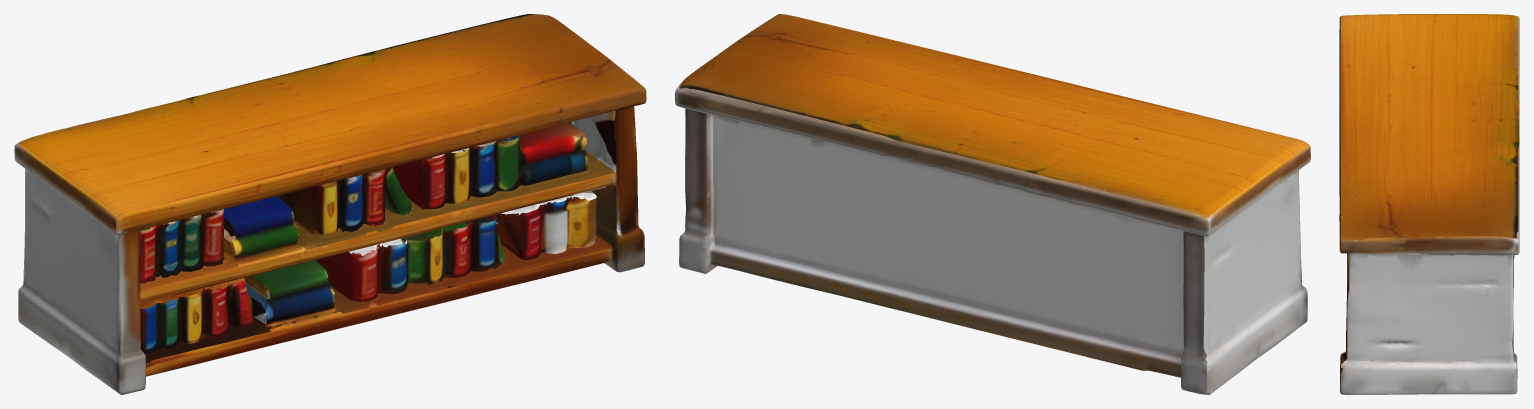
File: Furniture_bookshelf.glb
3 views of the same model, side by side, from view 1: azimuth 30°, elevation 25°; view 2: azimuth 150°, elevation 25°; view 3: azimuth 270°, elevation 25° (orthographic). The views are drawn at different scales.
Parts seen in each view (by area): view 1: tmpa6cf1pal.ply; view 2: tmpa6cf1pal.ply; view 3: tmpa6cf1pal.ply.
Part boxes in pixels (x1=…): tmpa6cf1pal.ply: x1=14, y1=14, x2=646, y2=394; tmpa6cf1pal.ply: x1=675, y1=14, x2=1310, y2=394; tmpa6cf1pal.ply: x1=1339, y1=14, x2=1519, y2=394.
Size of the model in its own units: 1.99 by 0.6661 by 0.6719.
Materials: 1 (1 with a texture image).
